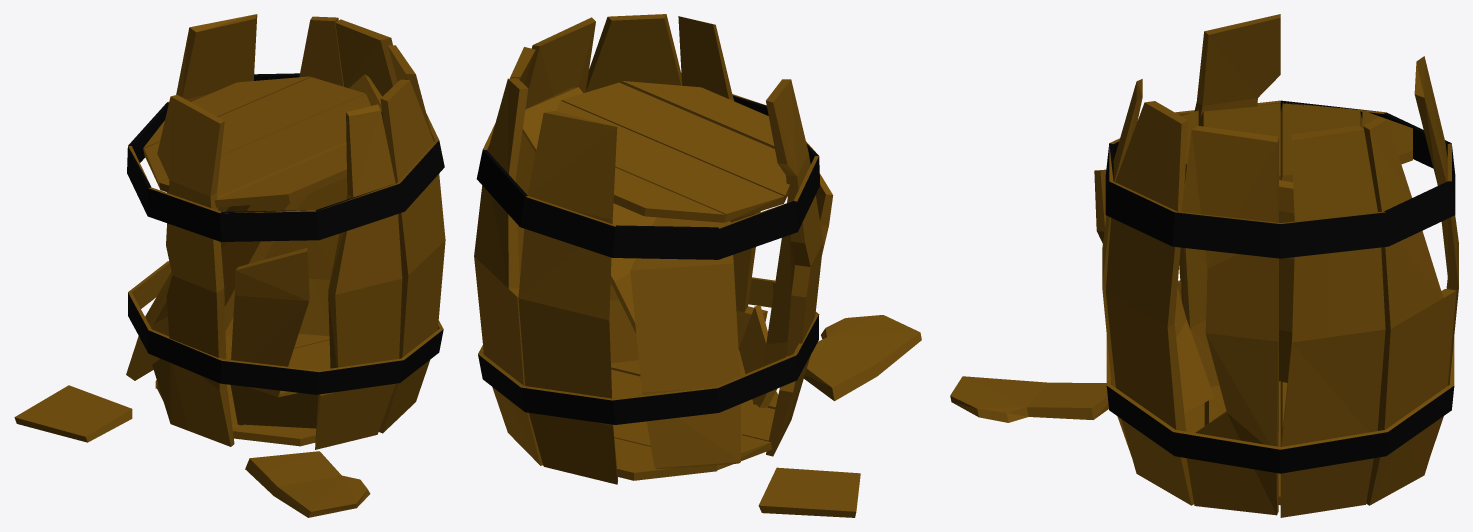
Rendered from broken_barrel_Decoration_01.fbx.
3 renders of one model, left to right at view 1: azimuth 30°, elevation 25°; view 2: azimuth 150°, elevation 25°; view 3: azimuth 270°, elevation 25°, orthographic. The views are drawn at different scales.
Parts seen in each view (by area): view 1: Barrel_broken; view 2: Barrel_broken; view 3: Barrel_broken.
Boxes of the visible parts, bbox=[...] form: Barrel_broken: bbox=[14, 14, 445, 517]; Barrel_broken: bbox=[474, 14, 921, 517]; Barrel_broken: bbox=[950, 14, 1458, 517].
Bounding box in the file's own units: 108 × 92.61 × 112.
